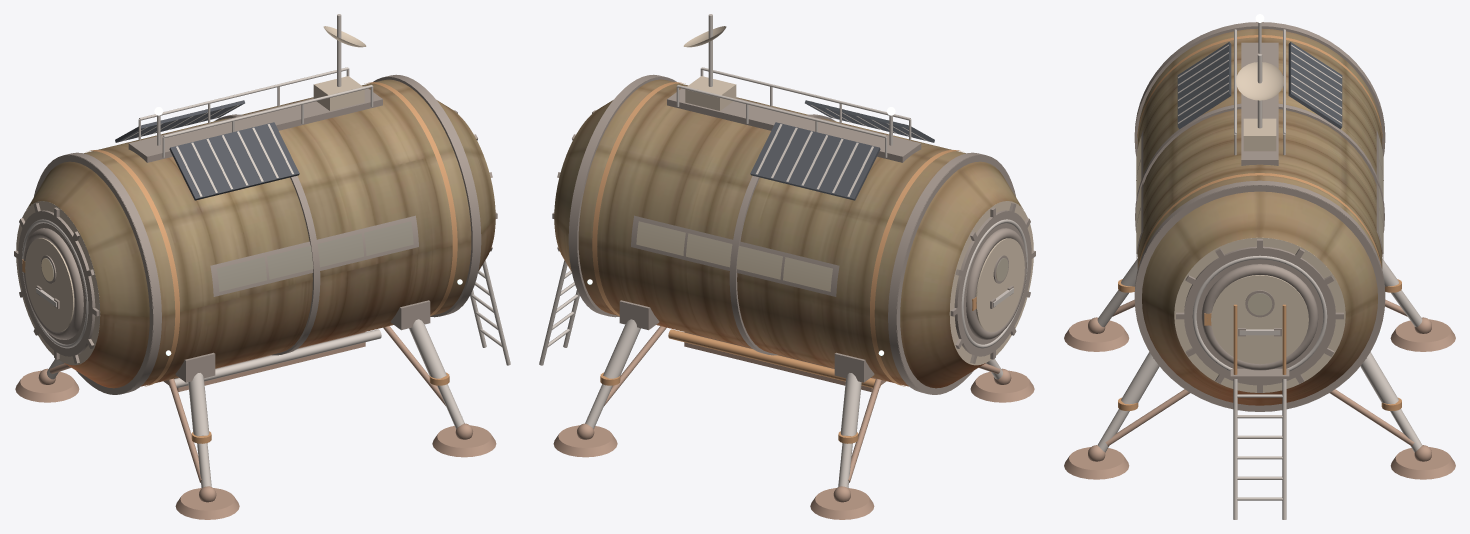
File: W01_dust2_light.glb
3 views of the same model, side by side, from view 1: azimuth 30°, elevation 25°; view 2: azimuth 150°, elevation 25°; view 3: azimuth 270°, elevation 25° (orthographic).
Parts seen in each view (by area): view 1: hull, cone_rib, hatch_light_ring, end_plate, leg_brace, hatch_porthole; view 2: hull, cone_rib, end_plate, hatch_light_ring, leg_brace, hatch_porthole; view 3: hull, cone_rib, end_plate, hatch_light_ring, leg_brace, hatch_porthole, antenna_dish.
Part boxes in pixels (x1,y1,x2,y2): hull: (26, 79, 495, 388); cone_rib: (14, 74, 497, 394); hatch_light_ring: (22, 14, 510, 487); end_plate: (16, 76, 474, 443); leg_brace: (15, 326, 496, 519); hatch_porthole: (41, 221, 413, 291); hull: (554, 79, 1023, 388); cone_rib: (552, 74, 1035, 394); end_plate: (575, 76, 1033, 443); hatch_light_ring: (539, 14, 1027, 487); leg_brace: (553, 326, 1034, 519); hatch_porthole: (636, 221, 1008, 291); hull: (1137, 28, 1382, 405); cone_rib: (1134, 22, 1385, 411); end_plate: (1118, 35, 1401, 410); hatch_light_ring: (1097, 22, 1422, 519); leg_brace: (1064, 299, 1455, 479); hatch_porthole: (1136, 136, 1383, 315); antenna_dish: (1236, 62, 1283, 100).
Bounding box in the file's own units: 6.52 × 5.25 × 4.8.
Materials: 9 (1 with a texture image).
